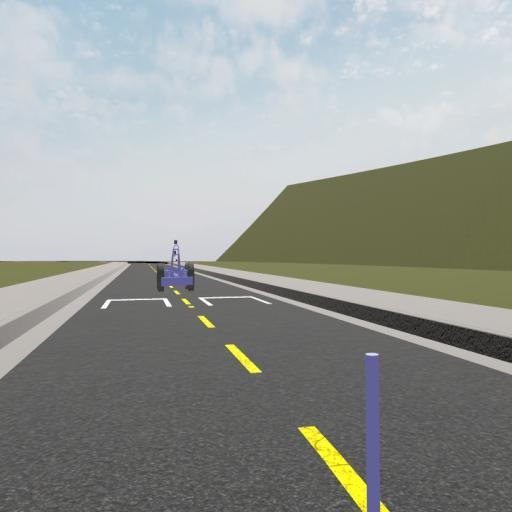ERP-42: (156, 238, 196, 293)
